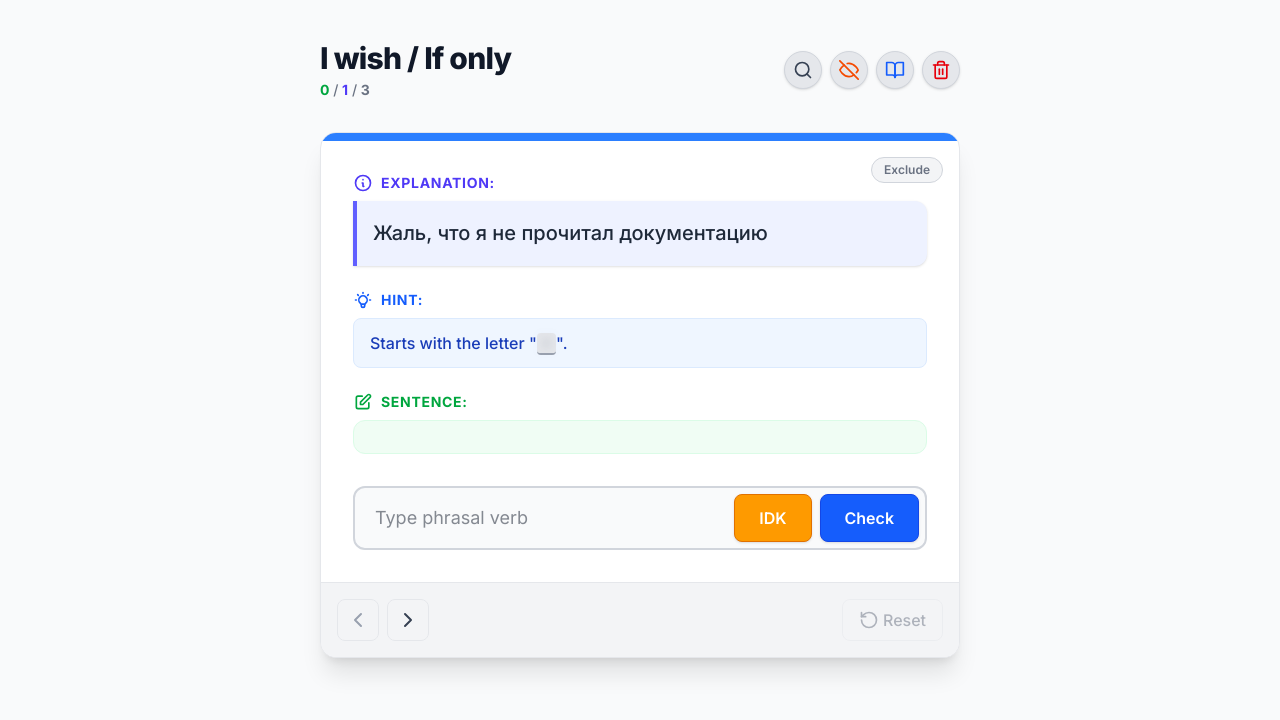
IWishPage — SearchModal label › opens SearchModal with "Search by sentences..." placeholder
Click the button titled "Search by sentences": (803, 70) [784,51,822,89]
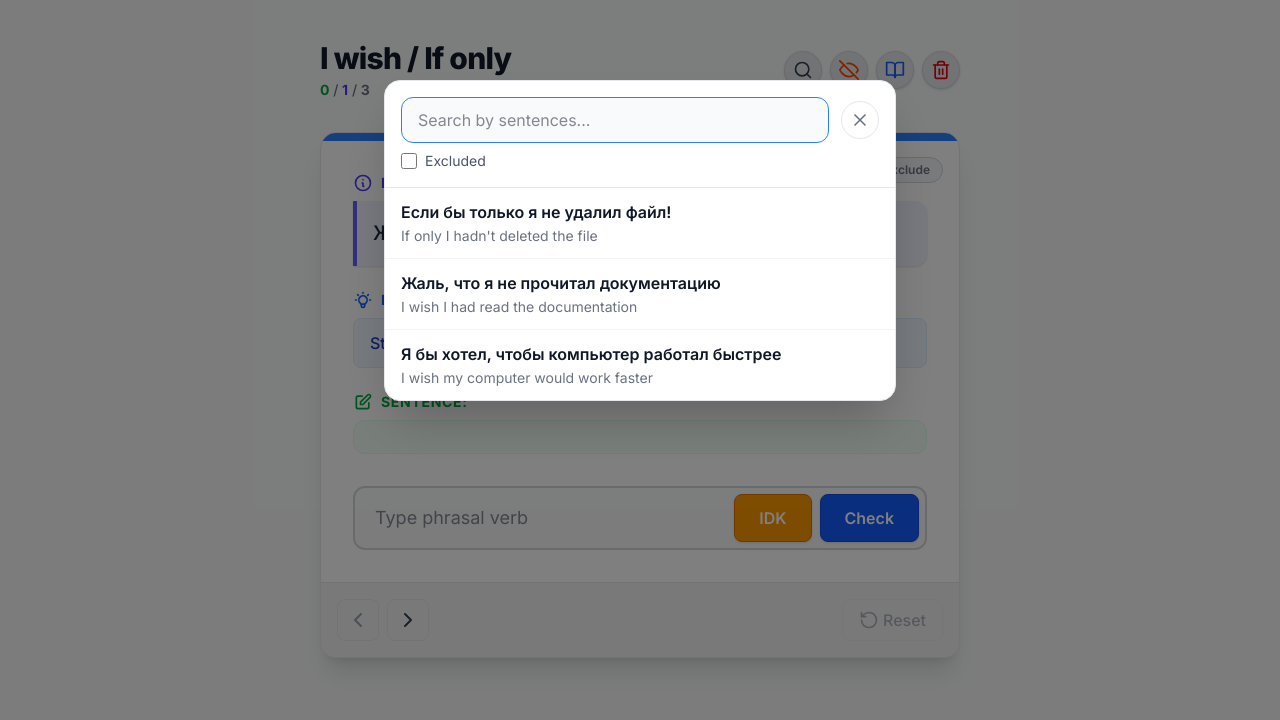
Result: the field with placeholder "Search by sentences..." is shown at [401,97,829,143]
